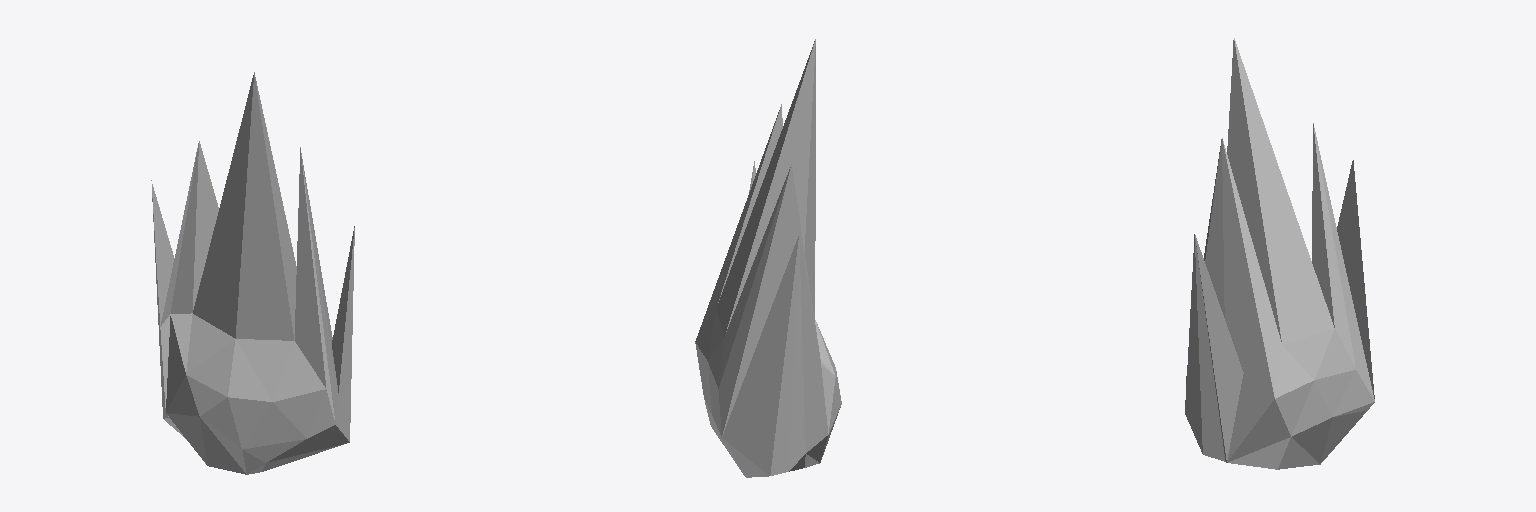
Rendered from Chama.obj.
The picture shows the model from 3 angles: view 1: azimuth 30°, elevation 25°; view 2: azimuth 150°, elevation 25°; view 3: azimuth 270°, elevation 25°; orthographic projection.
Parts seen in each view (by area): view 1: Icosphere; view 2: Icosphere; view 3: Icosphere.
Part boxes in pixels (x1,y1,x2,y2): Icosphere: (151,72,354,474); Icosphere: (695,39,841,477); Icosphere: (1185,38,1374,469).
Size of the model in its own units: 1.62 by 4.25 by 1.77.